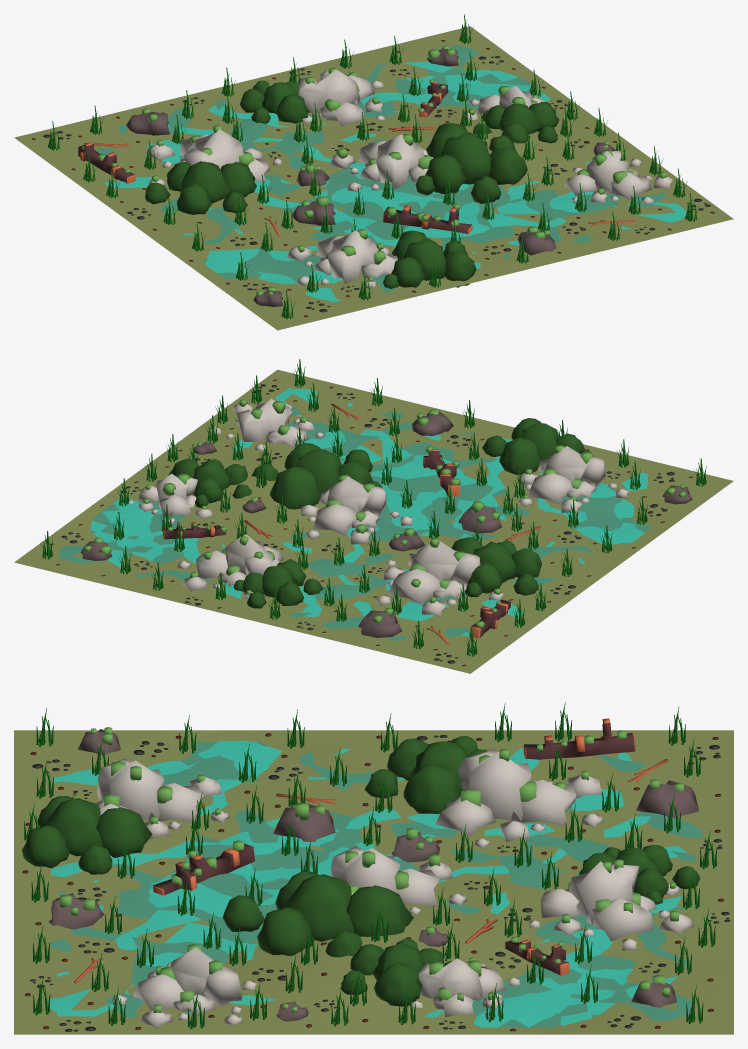
The model's file is marshlands.glb.
3 renders of one model, top to bottom at view 1: azimuth 30°, elevation 25°; view 2: azimuth 150°, elevation 25°; view 3: azimuth 270°, elevation 25°, orthographic. The views are drawn at different scales.
Parts seen in each view (by area): view 1: FlatSwampGrass_Tile1x1.001; view 2: FlatSwampGrass_Tile1x1.001; view 3: FlatSwampGrass_Tile1x1.001.
Part boxes in pixels (left/top/right/bottom): FlatSwampGrass_Tile1x1.001: left=14, top=14, right=733, bottom=330; FlatSwampGrass_Tile1x1.001: left=14, top=359, right=733, bottom=673; FlatSwampGrass_Tile1x1.001: left=14, top=702, right=733, bottom=1034.
Size of the model in its own units: 4 by 0.5346 by 4.
